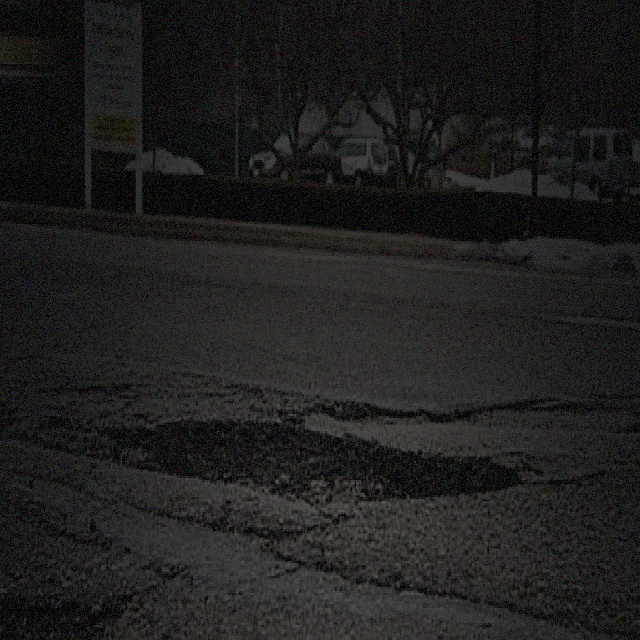pothole: (121, 421, 519, 504), (0, 591, 121, 638)
